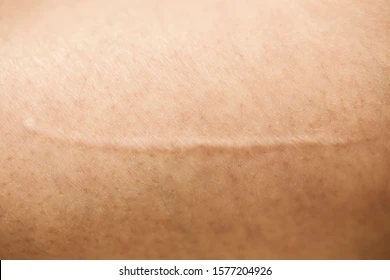scar: (19, 118, 362, 162)
